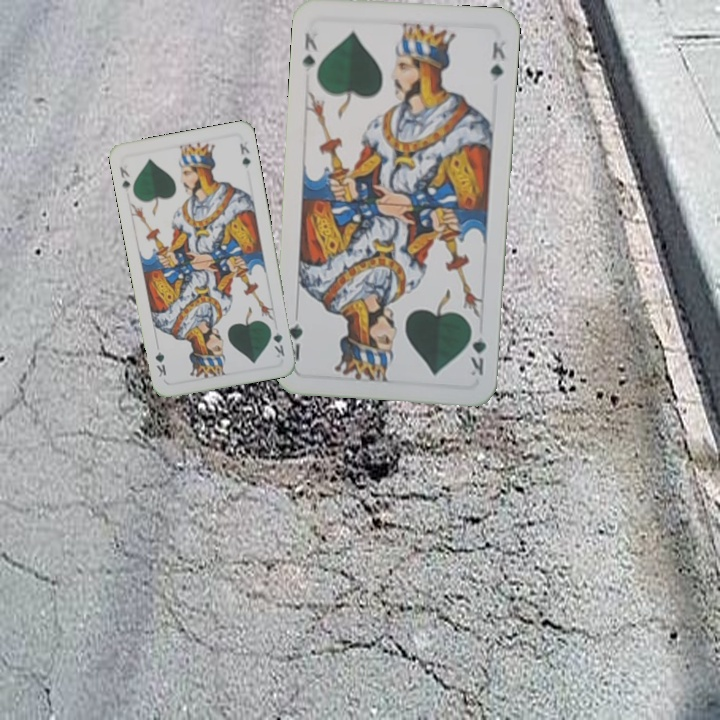GK: (466, 321, 489, 378), (298, 29, 320, 74), (266, 322, 287, 360), (115, 163, 133, 191)
